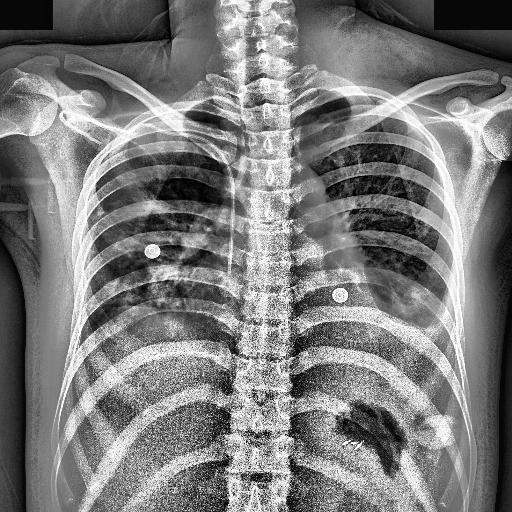0- Aortic enlargement: (267, 158, 328, 212)
10- Pleural effusion: (399, 282, 456, 361), (430, 278, 466, 366), (406, 296, 464, 344)
11- Pleural thickening: (399, 282, 456, 361)
3- Cardiomegaly: (179, 266, 408, 346)
6- Infiltration: (82, 192, 204, 318), (324, 248, 438, 324)
7- Lung Opacity: (82, 172, 222, 322), (330, 234, 432, 320), (73, 278, 122, 352), (132, 264, 182, 312)
